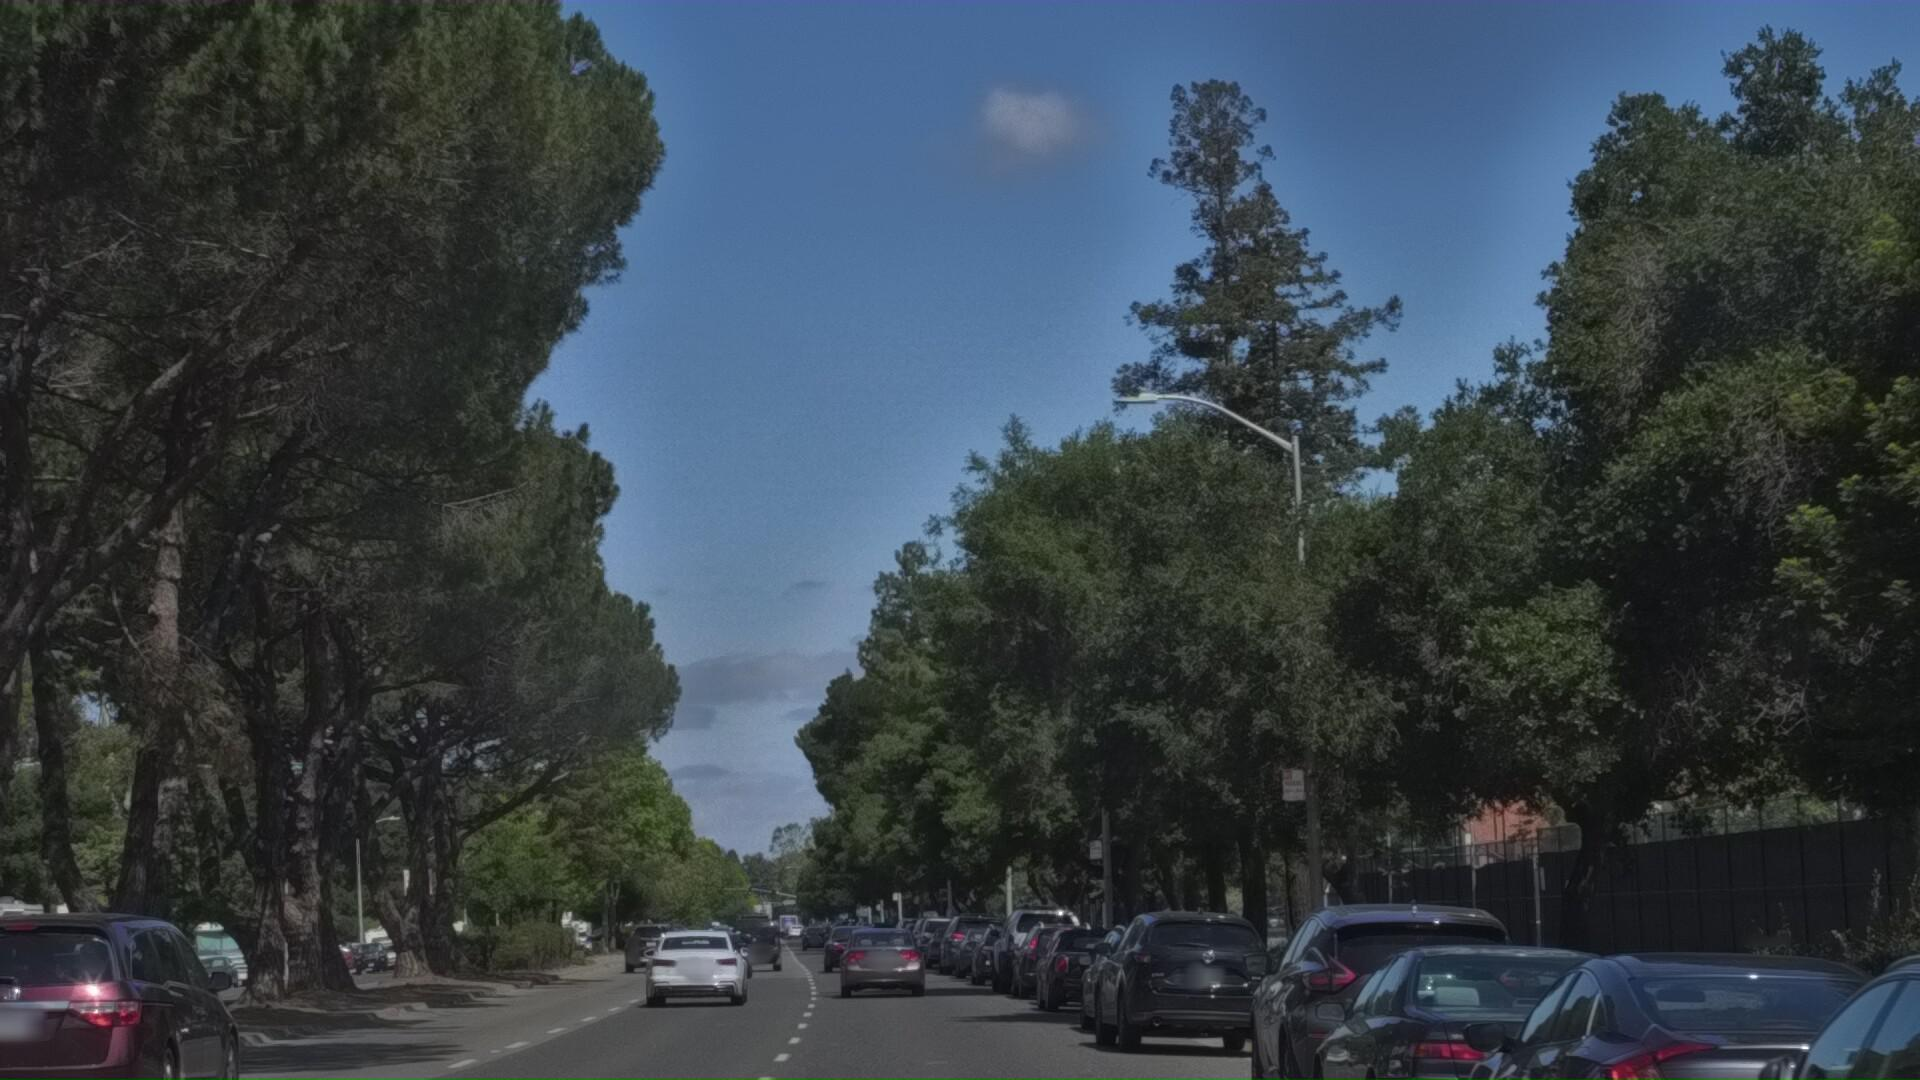car: (1428, 938, 1920, 1080), (1284, 948, 1737, 1080), (1240, 913, 1567, 1080), (1626, 934, 1920, 1080), (0, 936, 264, 1080), (1091, 923, 1280, 1080), (1036, 947, 1158, 1043), (645, 957, 756, 1060), (992, 920, 1102, 1023), (833, 963, 936, 1069), (1013, 938, 1113, 1027), (975, 940, 1056, 1015)
